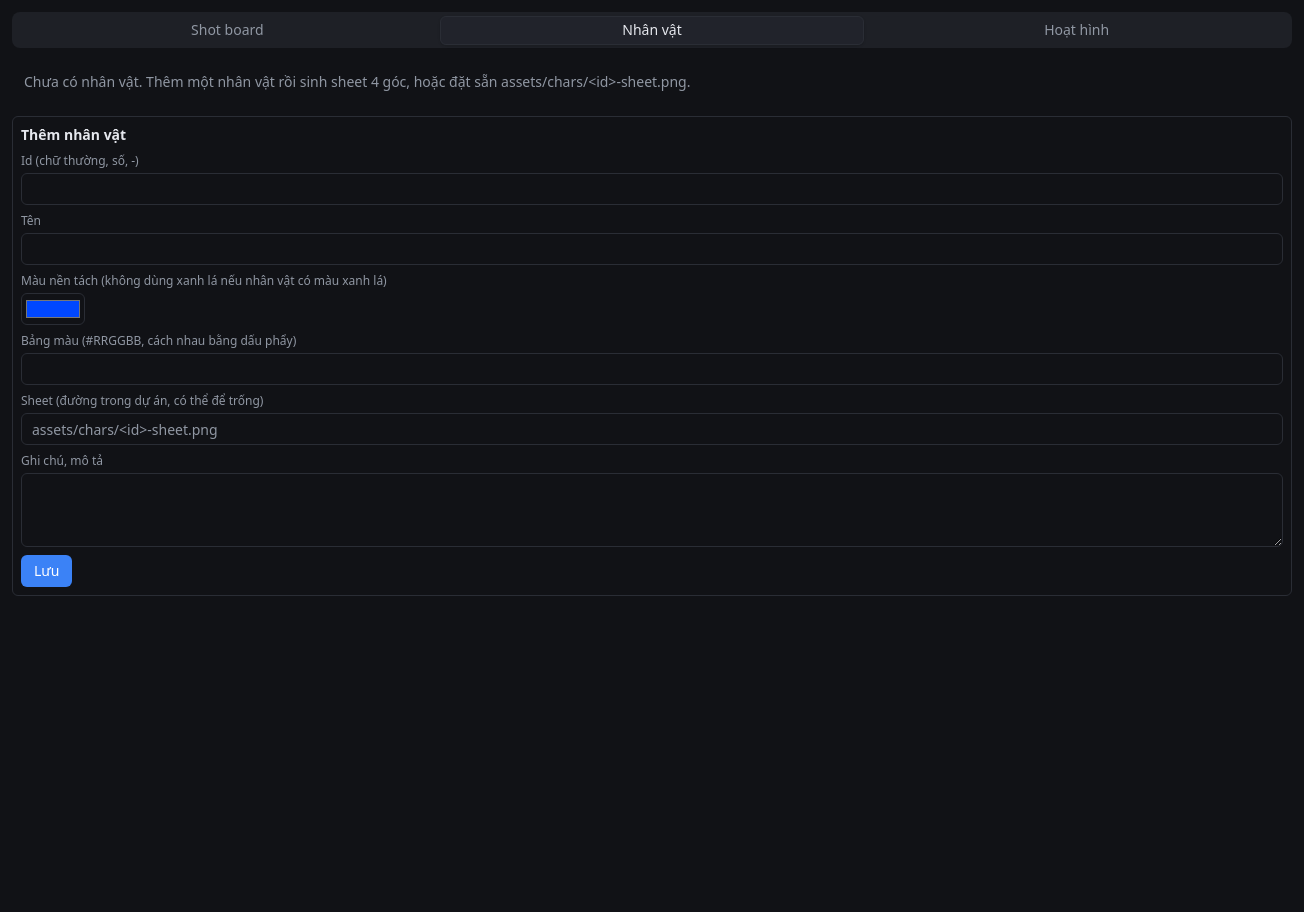
what is typed in the form stays when the chars query reloads
The image size is (1304, 912).
Type "thu-nv" into the field labelled "Id (chữ thường, số, -)" at coordinates (652, 189), box [21,173,1283,205]
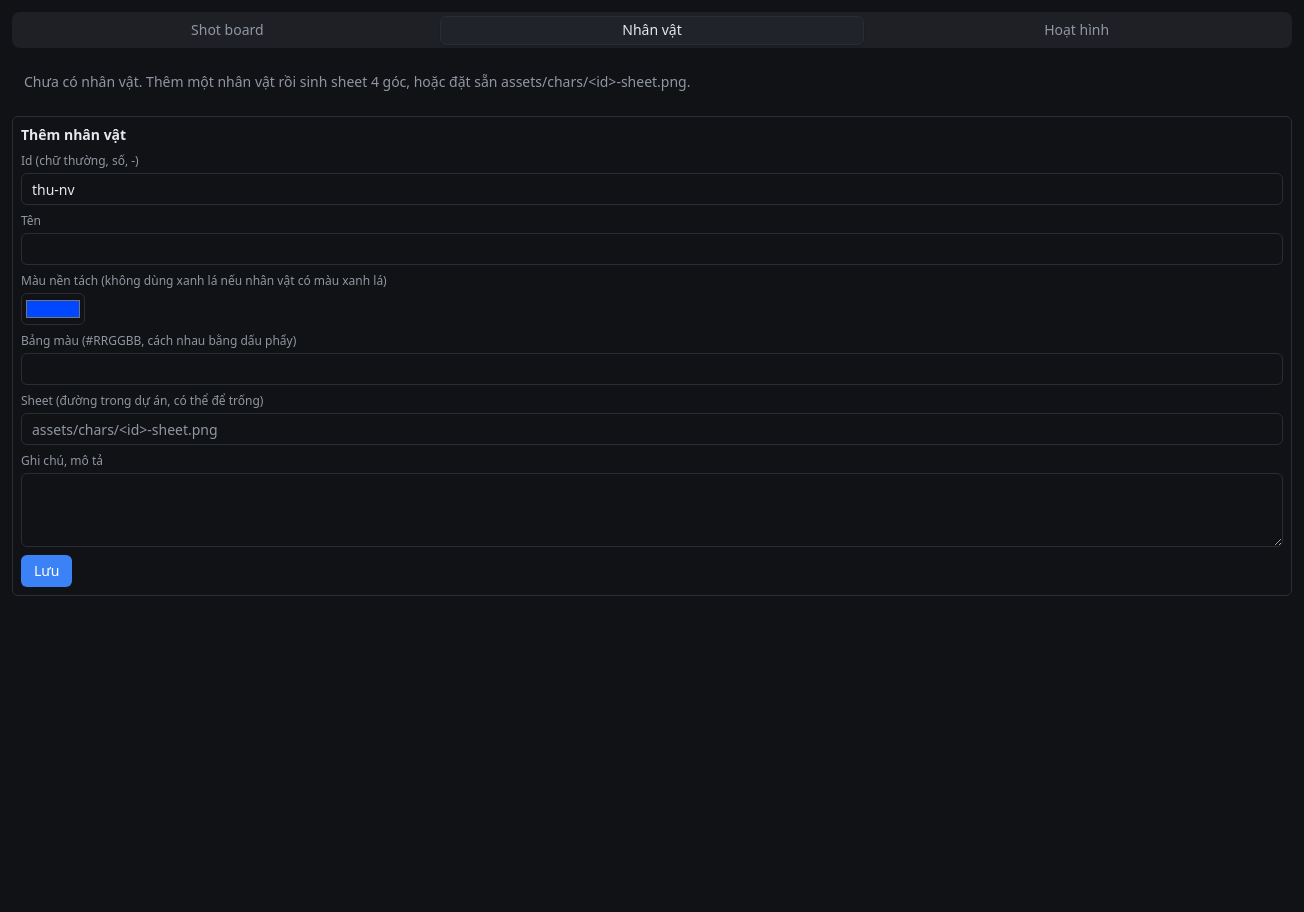
Type "Nhân vật thử" into the field labelled "Tên" at coordinates (652, 249), box [21,233,1283,265]
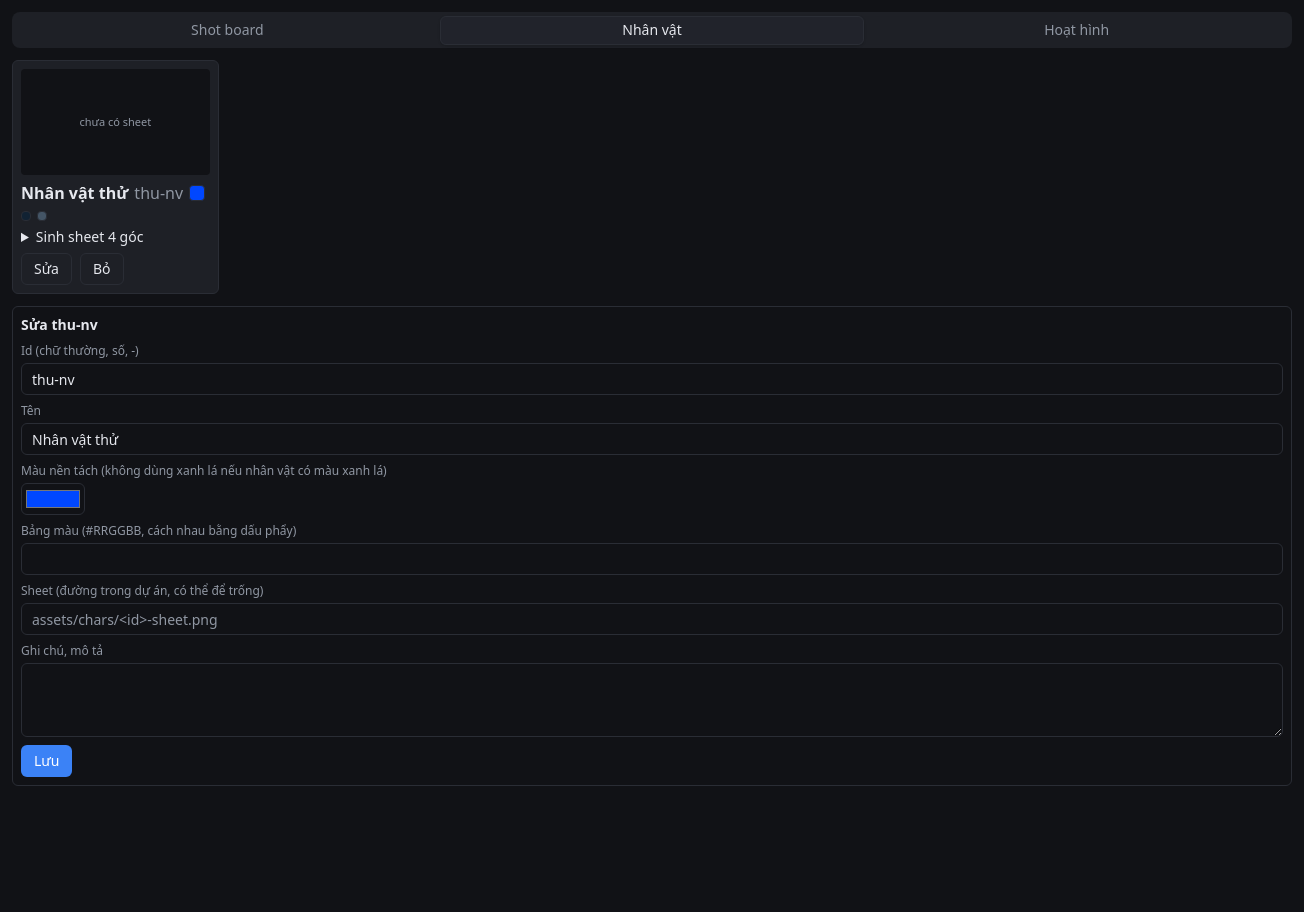
expect the text "thu-nv" is shown: met, box [134,181,183,205]
